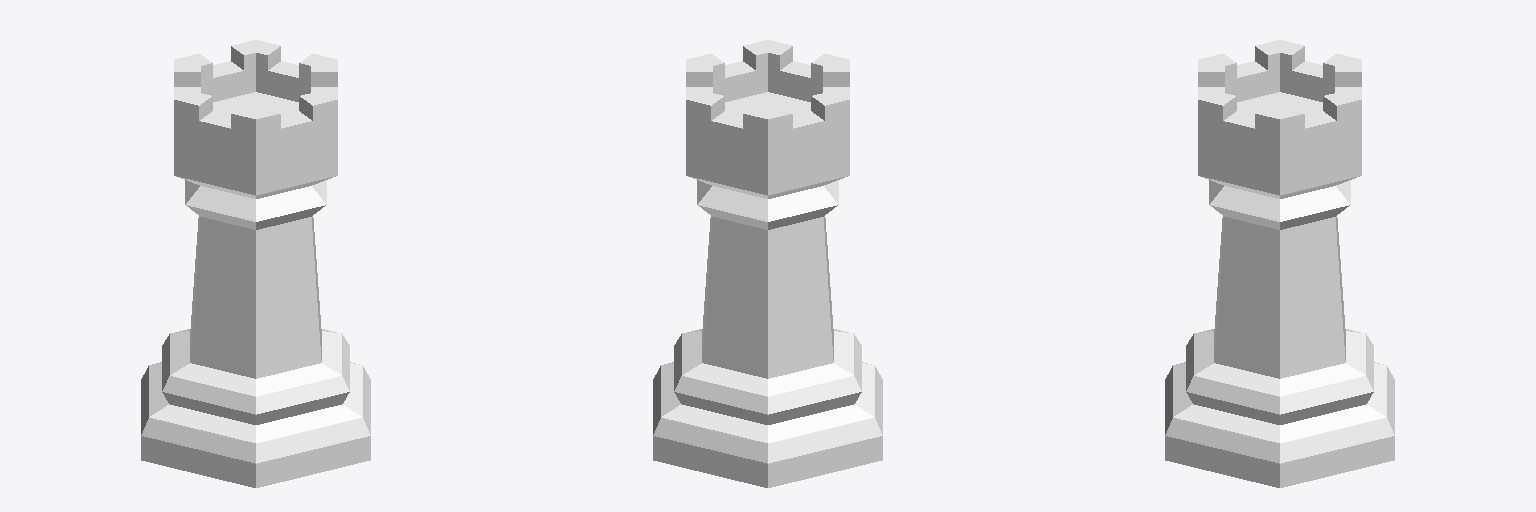
File: rook_white.obj
The picture shows the model from 3 angles: view 1: azimuth 30°, elevation 25°; view 2: azimuth 150°, elevation 25°; view 3: azimuth 270°, elevation 25°; orthographic projection.
Parts seen in each view (by area): view 1: Rook.003; view 2: Rook.003; view 3: Rook.003.
Part boxes in pixels (bbox=[...]): Rook.003: bbox=[141, 40, 370, 487]; Rook.003: bbox=[653, 40, 882, 487]; Rook.003: bbox=[1165, 40, 1394, 487].
Bounding box in the file's own units: 0.8957 × 1.32 × 0.7757.